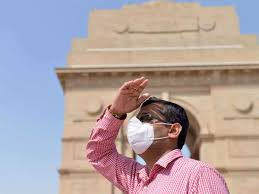mask: (124, 92, 176, 164)
